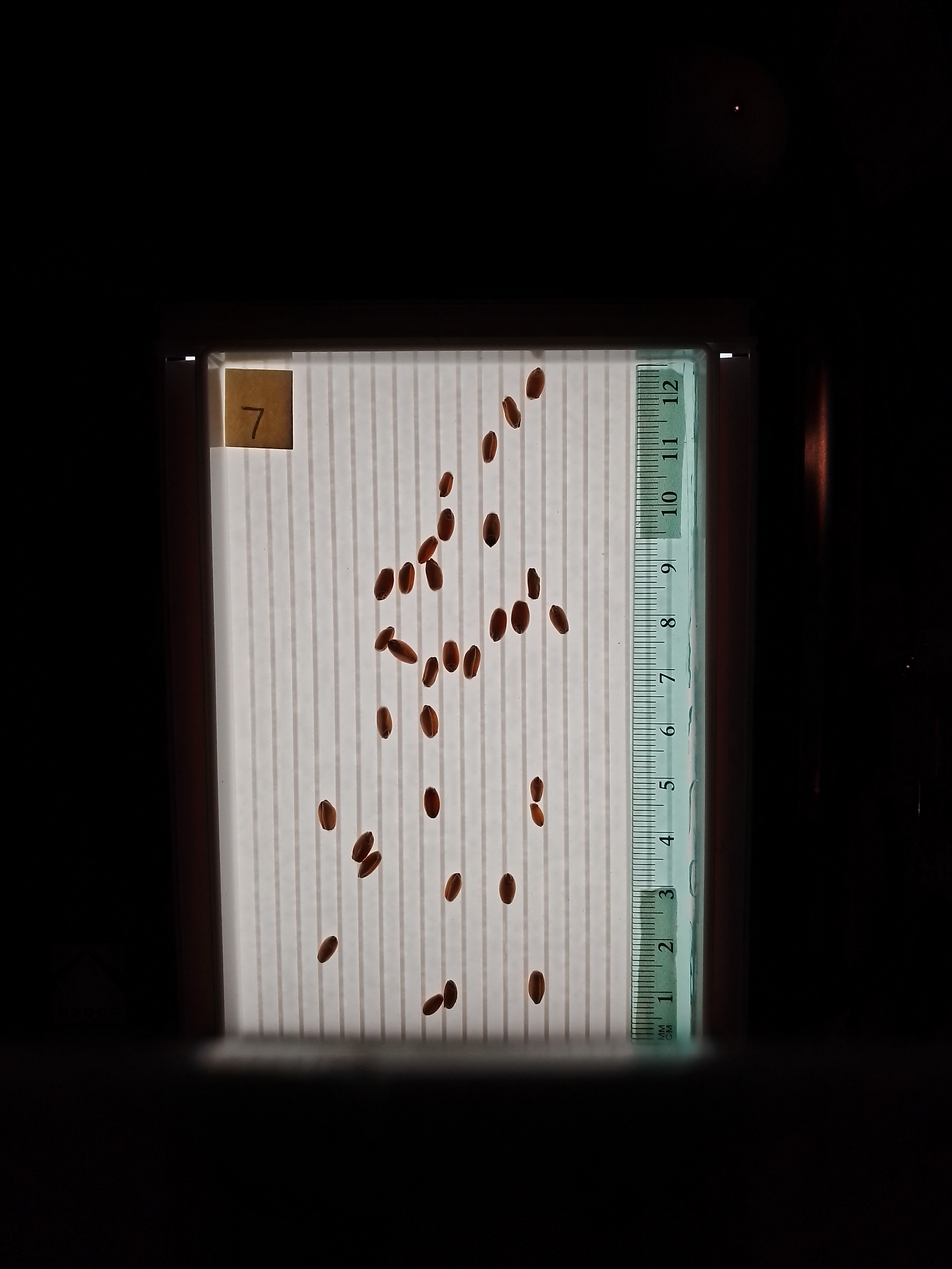seed mask: (388, 640, 416, 664), (374, 568, 394, 600), (352, 833, 373, 863), (420, 705, 439, 738), (358, 851, 381, 878), (526, 368, 545, 399), (512, 601, 529, 634), (463, 646, 480, 679), (318, 800, 336, 831), (376, 707, 393, 739), (528, 972, 545, 1004), (418, 536, 438, 563), (318, 936, 338, 963), (484, 514, 500, 547), (490, 608, 506, 641), (426, 560, 443, 591), (443, 641, 459, 673), (399, 562, 415, 594), (503, 398, 520, 428), (499, 874, 516, 904), (550, 606, 568, 634), (482, 432, 498, 463), (424, 789, 440, 818), (445, 873, 461, 902), (438, 510, 453, 540), (423, 657, 438, 687), (375, 628, 394, 651), (443, 981, 457, 1009), (528, 569, 540, 599), (424, 995, 442, 1015), (530, 777, 544, 802), (439, 472, 453, 496), (530, 805, 544, 827)
